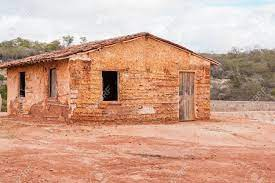Mud House: (2, 31, 222, 125)
